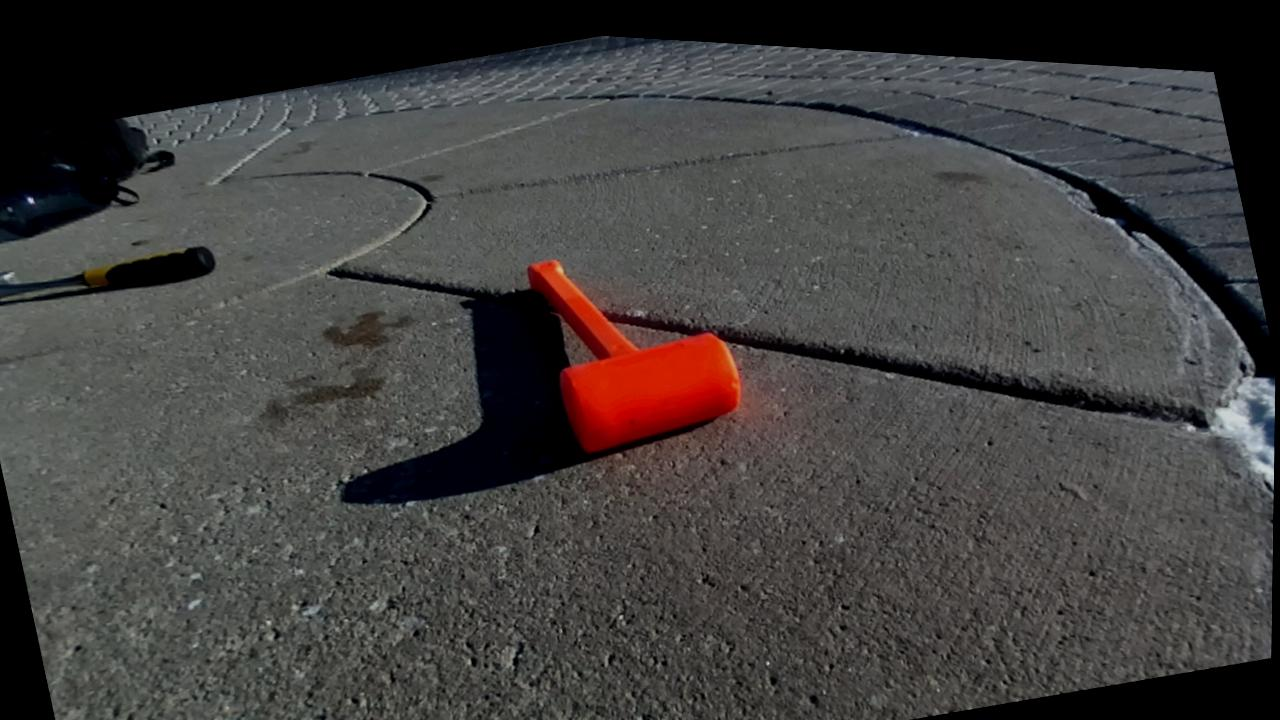bottle: (0, 162, 118, 236)
mallet: (527, 262, 738, 450)
pick: (0, 246, 216, 298)
